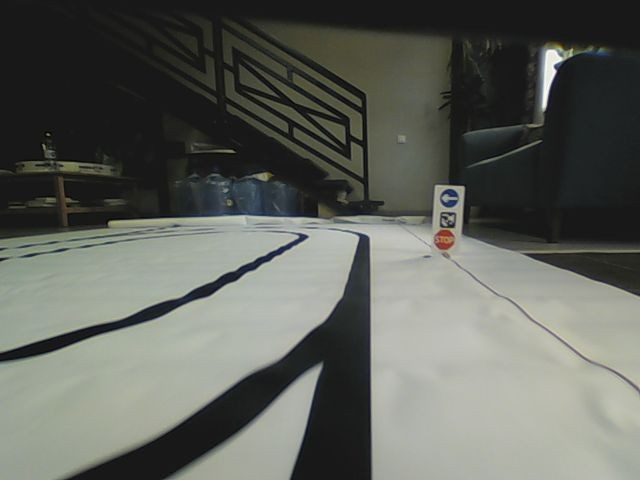Stop: (434, 229, 458, 250)
